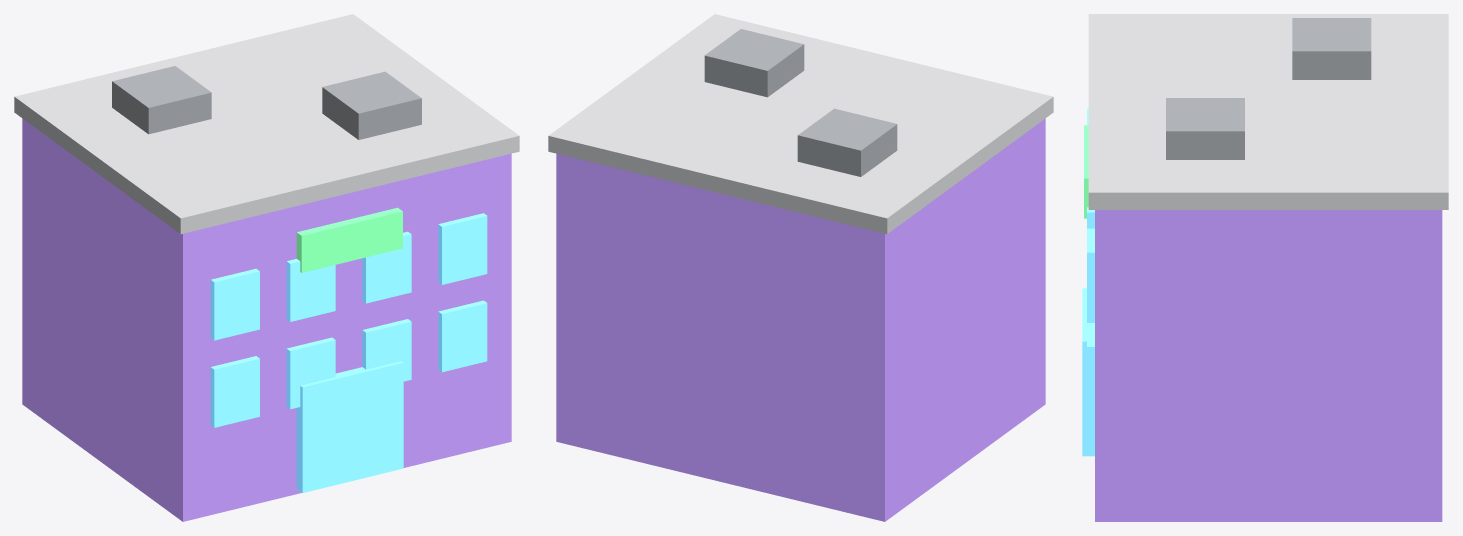
The model's file is electronics.glb.
3 renders of one model, left to right at view 1: azimuth 30°, elevation 25°; view 2: azimuth 150°, elevation 25°; view 3: azimuth 270°, elevation 25°, orthographic. The views are drawn at different scales.
Parts seen in each view (by area): view 1: electronics; view 2: electronics; view 3: electronics.
Part boxes in pixels (<box>): electronics: <box>14,14,519,521</box>; electronics: <box>548,14,1053,521</box>; electronics: <box>1082,14,1448,521</box>.
Bounding box in the file's own units: 1.34 × 1.26 × 1.16.
